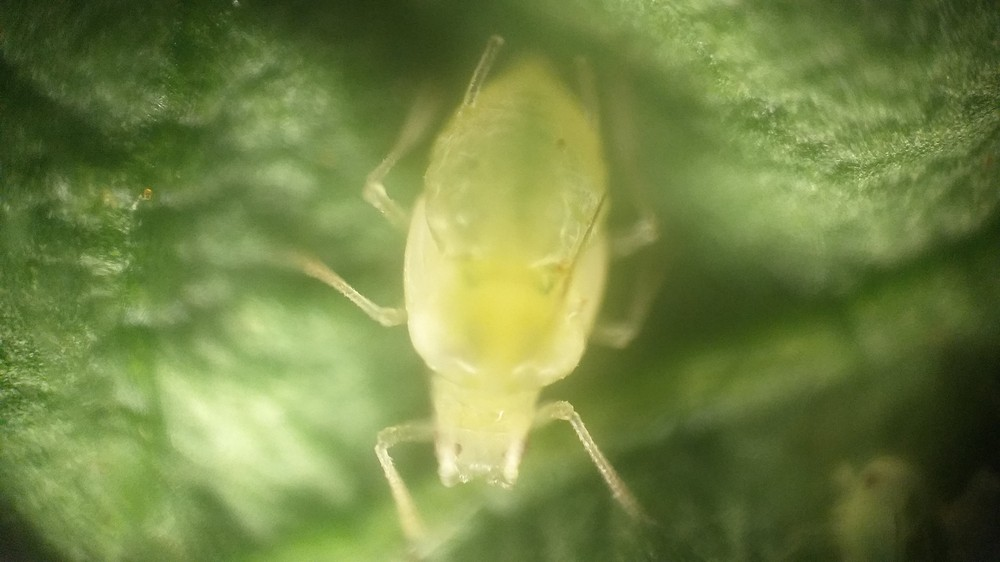Pulgon: (324, 34, 693, 548)
